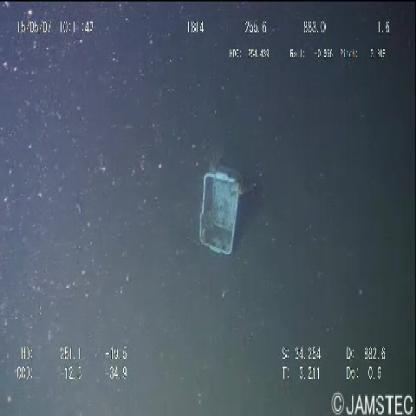Rác: (196, 157, 250, 265)
